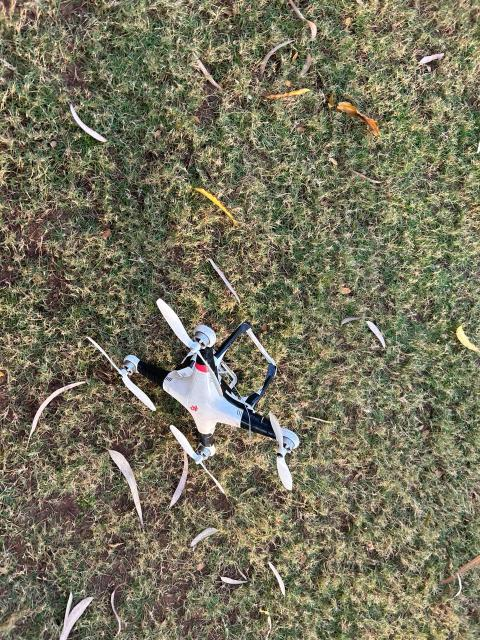drone: (80, 292, 316, 508)
